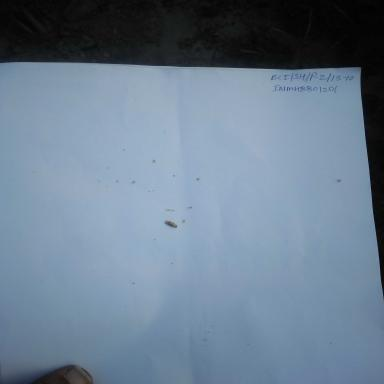pbw: (152, 215, 182, 232)
